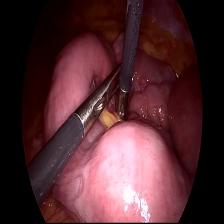Grasper: (71, 61, 122, 138), (111, 90, 136, 122)
